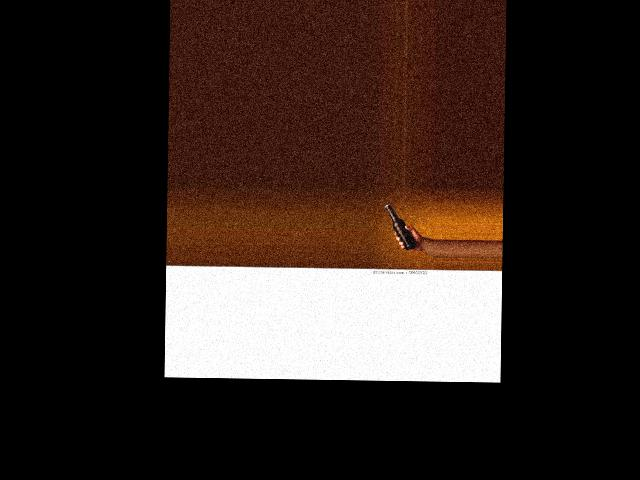beer: (384, 203, 419, 250)
